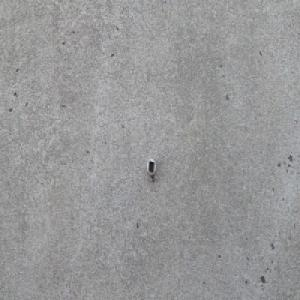MetalPart: (145, 157, 157, 184)
